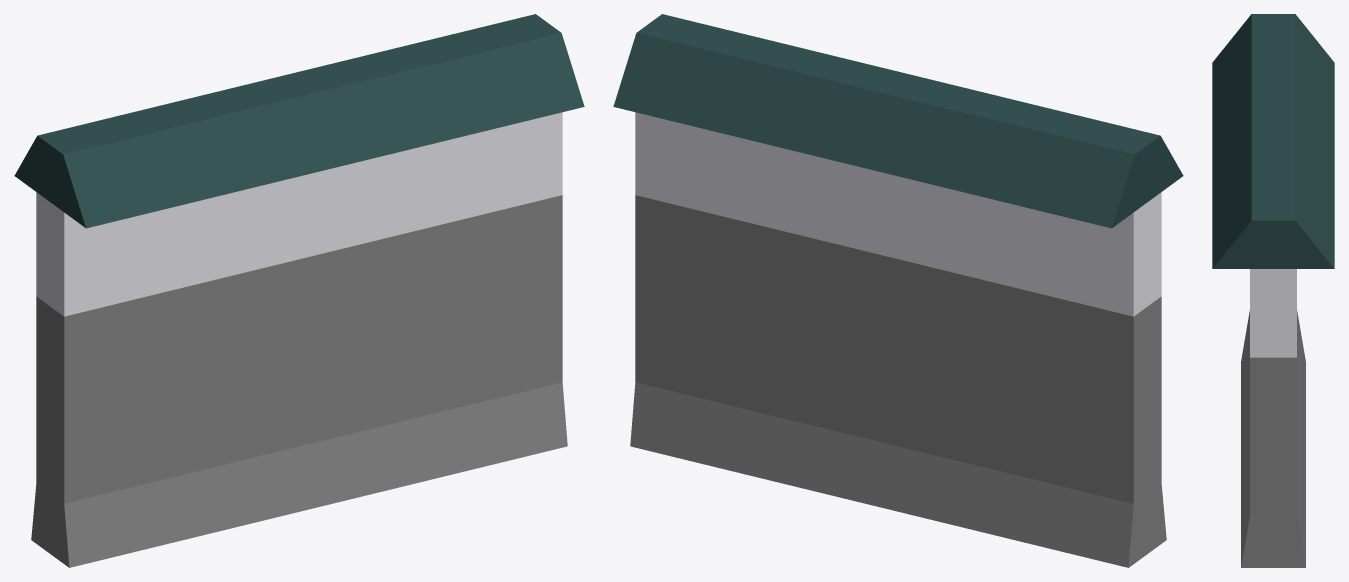
The model's file is Asian_Prop_Building_Fence_Wall_High_02.FBX.
The picture shows the model from 3 angles, left to right: view 1: azimuth 30°, elevation 25°; view 2: azimuth 150°, elevation 25°; view 3: azimuth 270°, elevation 25°; orthographic projection. The views are drawn at different scales.
Parts seen in each view (by area): view 1: Asian_Prop_Building_Fence_Wall_High_02; view 2: Asian_Prop_Building_Fence_Wall_High_02; view 3: Asian_Prop_Building_Fence_Wall_High_02.
Boxes of the visible parts, left/top/right/bottom form: Asian_Prop_Building_Fence_Wall_High_02: left=14, top=14, right=584, bottom=567; Asian_Prop_Building_Fence_Wall_High_02: left=613, top=14, right=1183, bottom=567; Asian_Prop_Building_Fence_Wall_High_02: left=1212, top=14, right=1334, bottom=567.
Bounding box in the file's own units: 5167 × 4051 × 1290.
